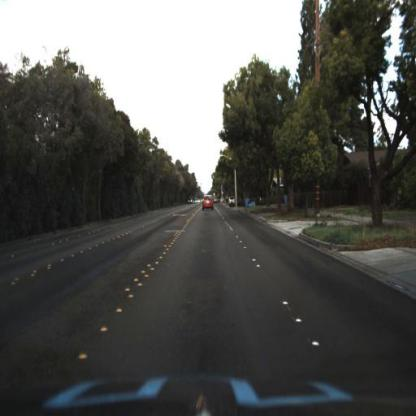car: (199, 190, 215, 214)
